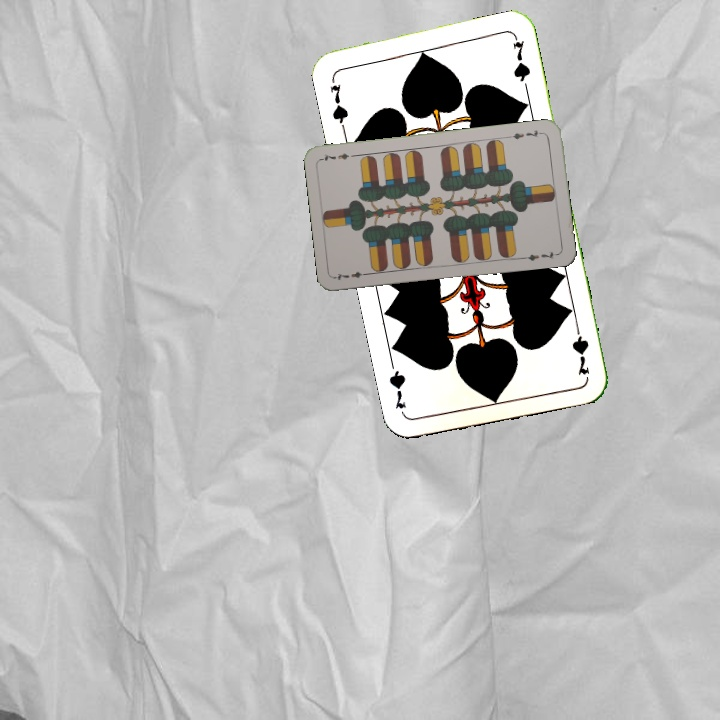E7: (505, 126, 546, 142), (332, 267, 372, 283)
G7: (568, 318, 593, 377), (326, 80, 351, 132)
